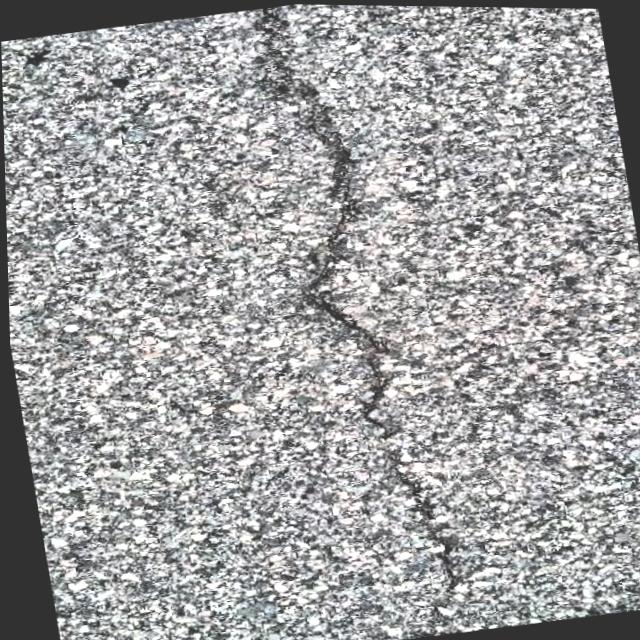cracks: (257, 6, 487, 619)
